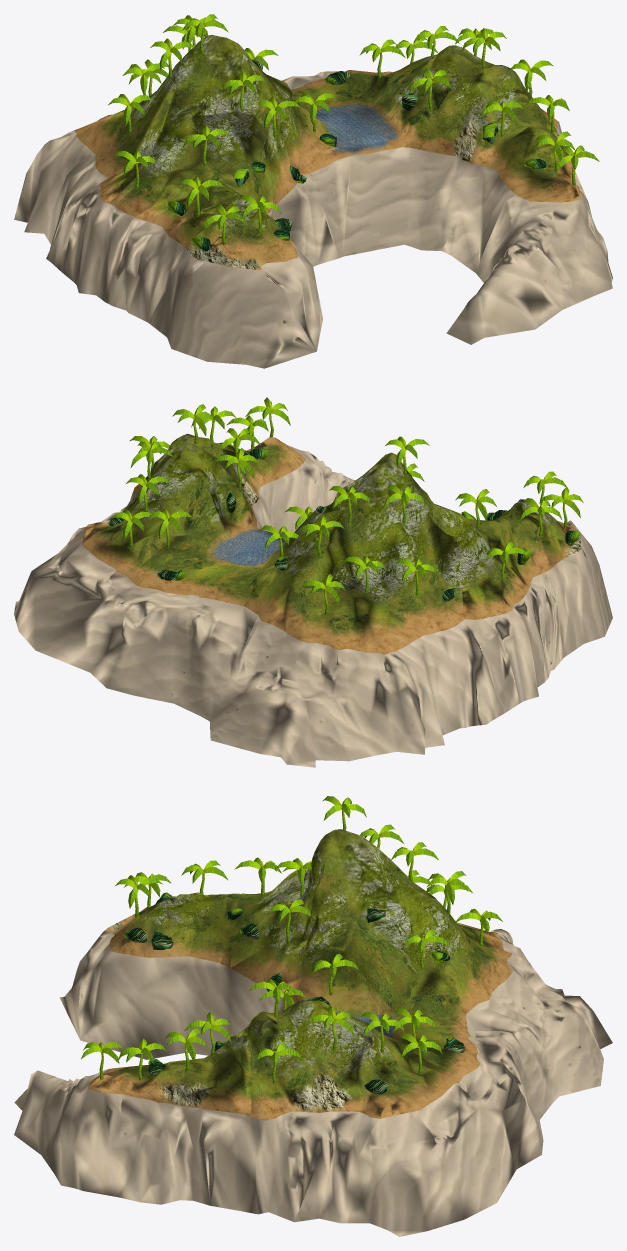
Rendered from island-t04.glb.
The picture shows the model from 3 angles, top to bottom: view 1: azimuth 30°, elevation 25°; view 2: azimuth 150°, elevation 25°; view 3: azimuth 270°, elevation 25°; orthographic projection. The views are drawn at different scales.
Parts seen in each view (by area): view 1: island; view 2: island; view 3: island.
Part boxes in pixels (x1,y1,x2,y2): island: (14,14,612,368); island: (14,397,612,767); island: (14,796,612,1236).
Bounding box in the file's own units: 90.72 × 40.79 × 89.58.
3 materials, 3 textured.
